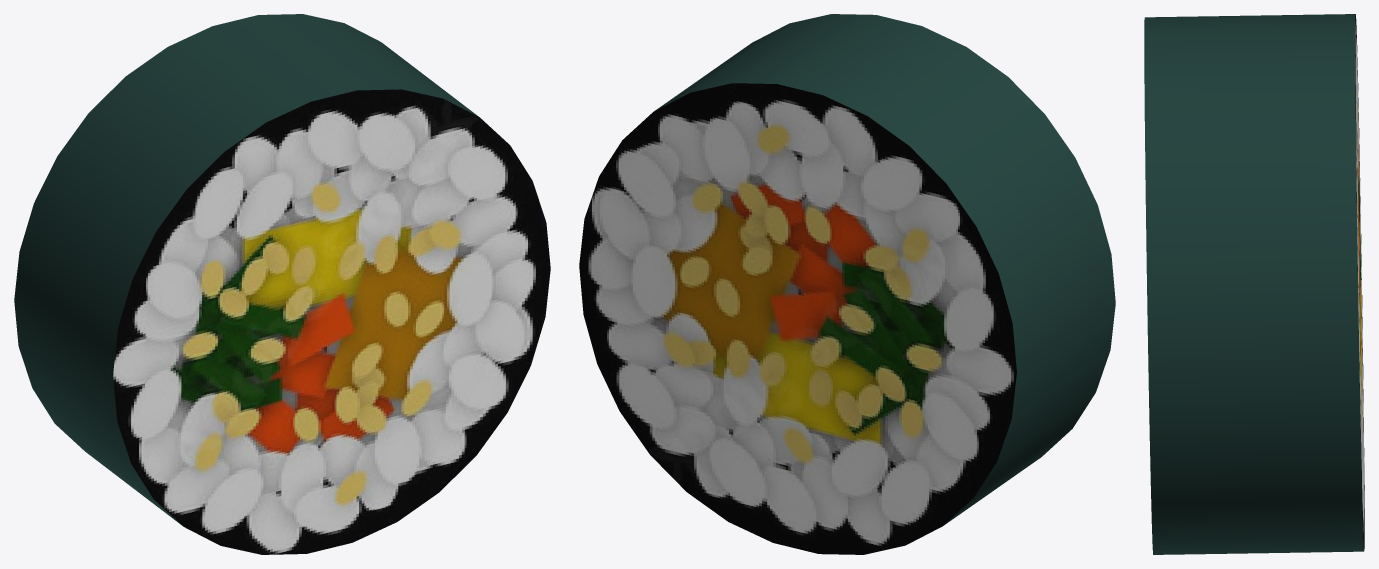
The model's file is kimbap_pc.fbx.
3 renders of one model, left to right at view 1: azimuth 30°, elevation 25°; view 2: azimuth 150°, elevation 25°; view 3: azimuth 270°, elevation 25°, orthographic. The views are drawn at different scales.
Parts seen in each view (by area): view 1: Kimbap.011; view 2: Kimbap.011; view 3: Kimbap.011.
Part boxes in pixels (<box>): Kimbap.011: <box>14,14,550,554</box>; Kimbap.011: <box>579,14,1115,554</box>; Kimbap.011: <box>1144,14,1364,554</box>.
Size of the model in its own units: 3.87 by 3.87 by 1.58.
